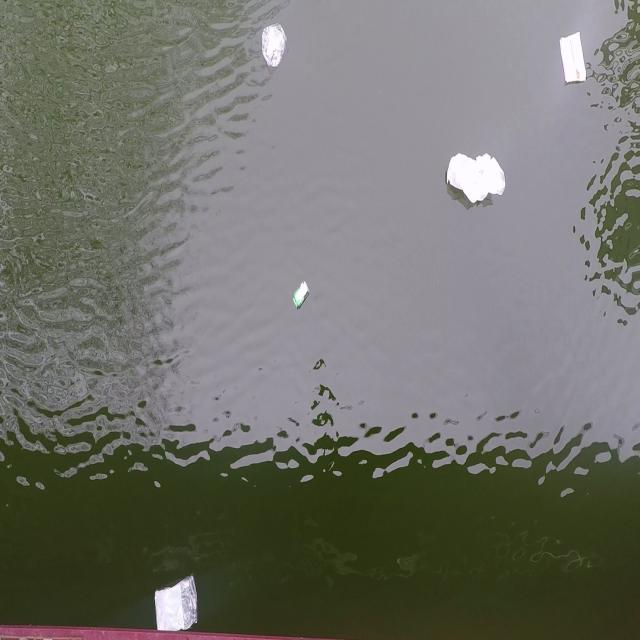Non plastique: (289, 280, 313, 314)
Sac plastique: (440, 144, 510, 212), (152, 565, 202, 631), (257, 17, 291, 74)
